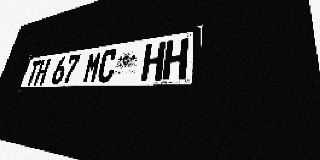6: (50, 56, 69, 85)
7: (61, 54, 81, 84)
C: (96, 48, 118, 83)
H: (162, 38, 189, 80), (141, 41, 166, 81), (33, 59, 51, 85)
M: (82, 51, 103, 83)
T: (25, 60, 42, 86)
